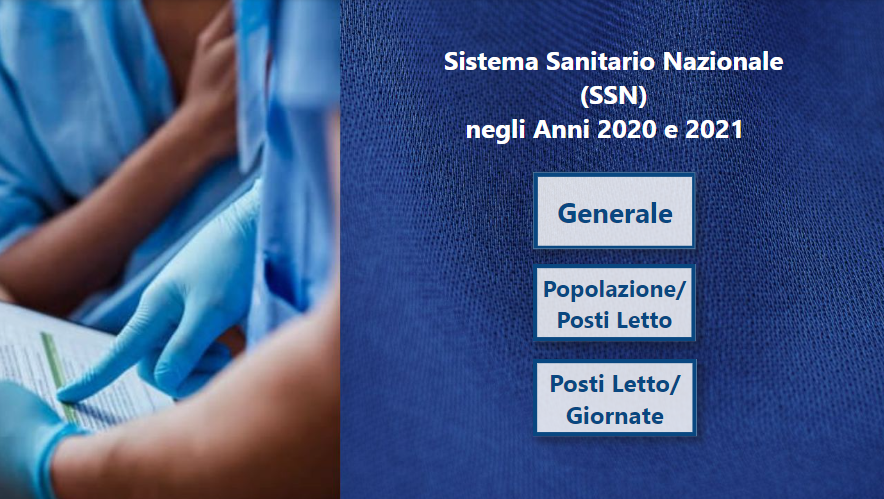

Layout of this report page (visuals, bound fields, positions):
{"tool":"powerbi","page":{"name":"Page 1","canvas":[1280,720],"ordinal":0},"visuals":[{"type":"actionButton","box":[768.3,382,234.1,111.2],"z":2000},{"type":"actionButton","title":"Posti Letto/ Giornate","box":[768.3,518,235.6,111.2],"z":2500},{"type":"textbox","box":[614.9,57.6,540,164.2],"z":6000},{"type":"actionButton","box":[768.3,248.8,234.1,111.2],"z":7500}]}

Visuals, with their boxes in screenshot pixels (x1, y1, x2, y2), scaled from the page's 1280x720 canvas onto the 884x499 screenshot:
actionButton: pyautogui.locateOnScreen(531, 265, 692, 342)
"Posti Letto/ Giornate" actionButton: pyautogui.locateOnScreen(531, 359, 693, 436)
textbox: pyautogui.locateOnScreen(425, 40, 798, 154)
actionButton: pyautogui.locateOnScreen(531, 172, 692, 250)
